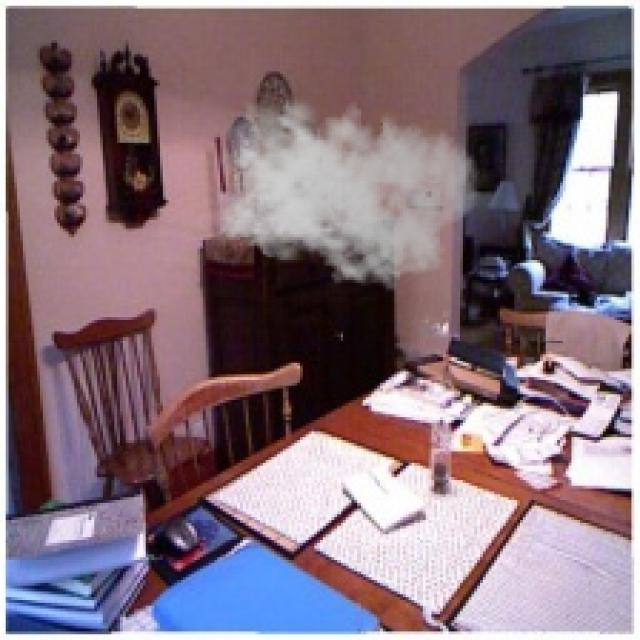smoke: (211, 88, 480, 292)
